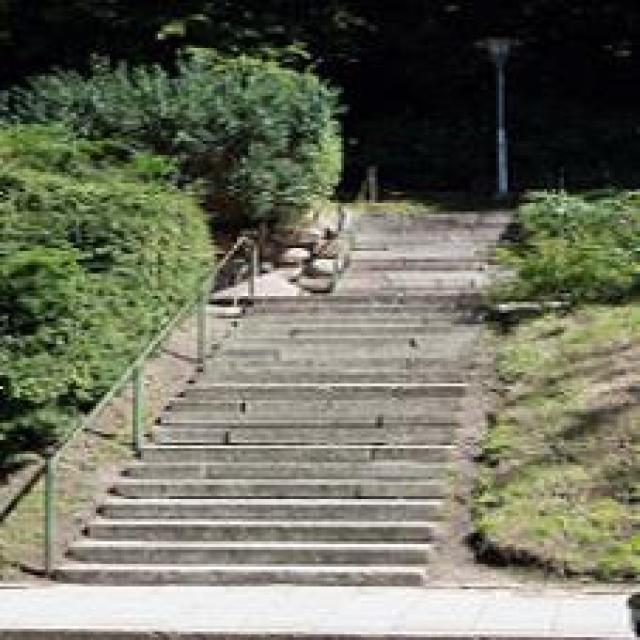Stair Up: (55, 291, 488, 582)
